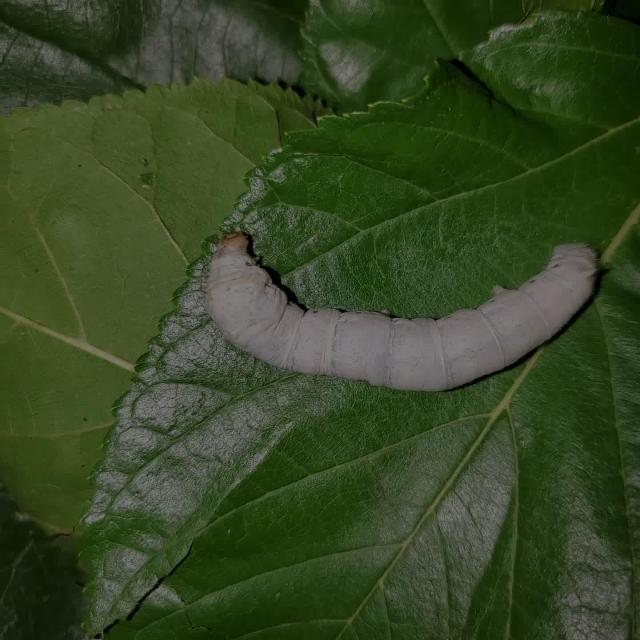Healthy: (163, 184, 620, 433)
